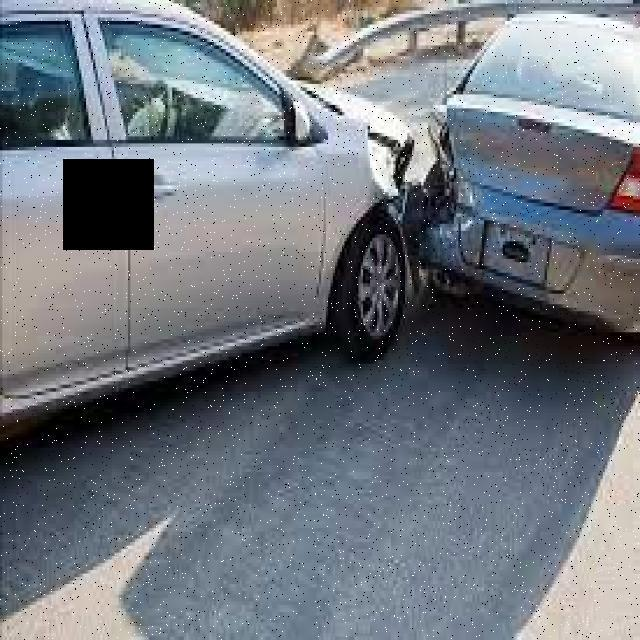multiple_accident: (23, 10, 595, 443)
